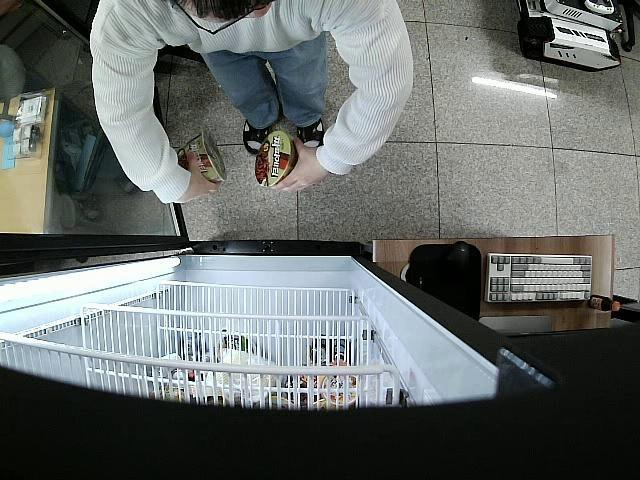03_chapagetti_L: (174, 130, 227, 185), (254, 132, 298, 188)
